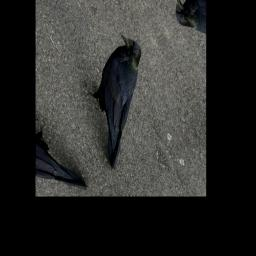Crow: (62, 26, 179, 172)
